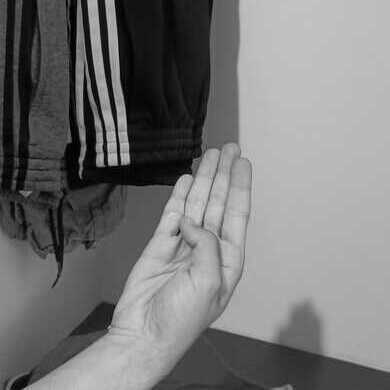B: (108, 138, 257, 347)
